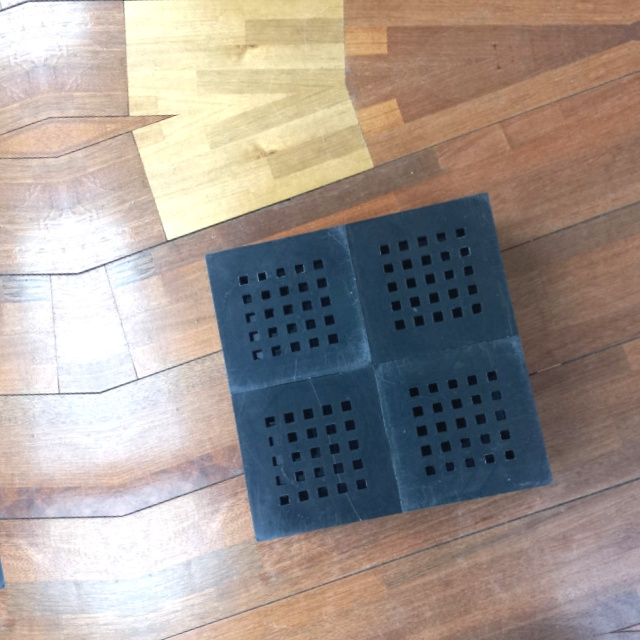pallet: (199, 185, 569, 564)
